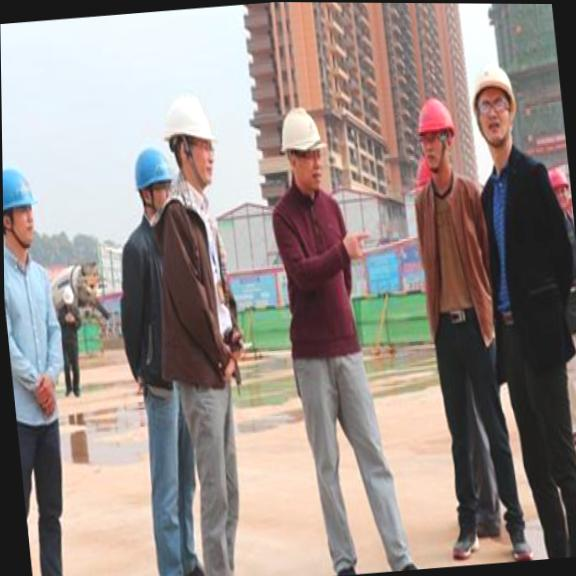no_safety_vest: (472, 143, 576, 371), (143, 179, 253, 386), (266, 179, 369, 360), (407, 164, 504, 349), (106, 216, 181, 395), (4, 244, 72, 428), (550, 200, 576, 335), (56, 301, 86, 361)
